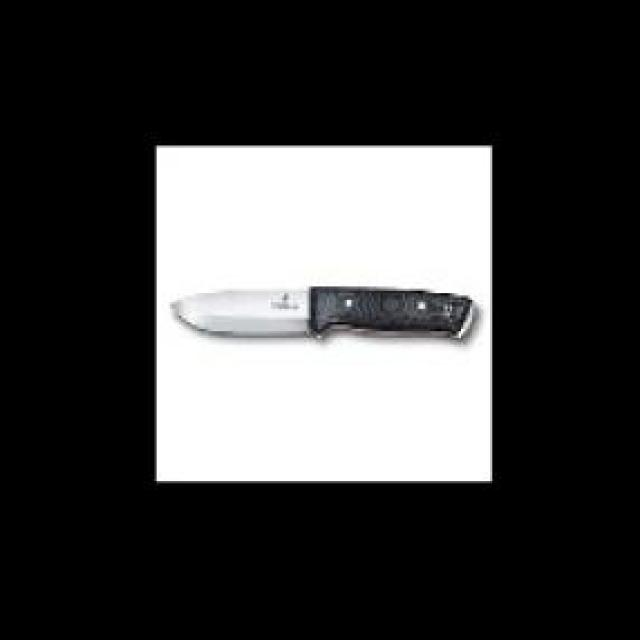knife: (166, 283, 476, 345)
